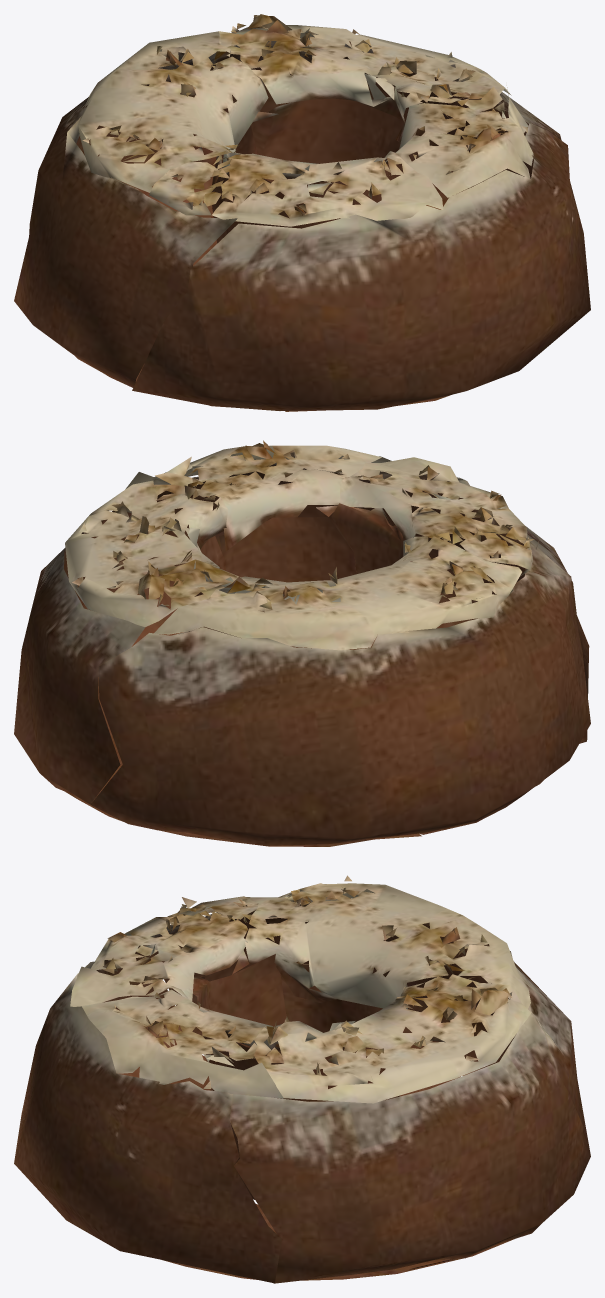
File: isl_cake.glb
3 views of the same model, one above another, from view 1: azimuth 30°, elevation 25°; view 2: azimuth 150°, elevation 25°; view 3: azimuth 270°, elevation 25° (orthographic). The views are drawn at different scales.
Visible parts, largest first — view 1: carrot_cake; view 2: carrot_cake; view 3: carrot_cake.
Boxes of the visible parts, bbox=[...] form: carrot_cake: bbox=[14, 14, 590, 411]; carrot_cake: bbox=[14, 440, 590, 846]; carrot_cake: bbox=[14, 875, 590, 1283].
Size of the model in its own units: 0.2258 by 0.0975 by 0.2273.
Materials: 1 (1 with a texture image).
